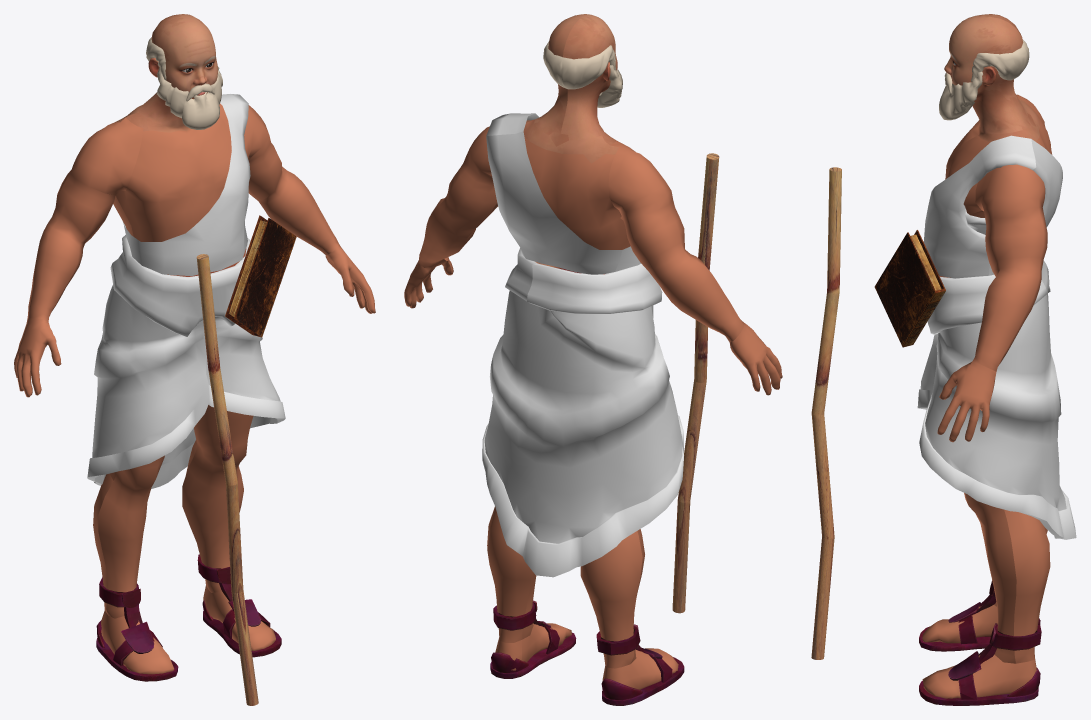
Rendered from Socrates.fbx.
3 views of the same model, side by side, from view 1: azimuth 30°, elevation 25°; view 2: azimuth 150°, elevation 25°; view 3: azimuth 270°, elevation 25° (orthographic). The views are drawn at different scales.
Visible parts, largest first — view 1: Wolf3D_Head.001, Cylinder, Object_4; view 2: Wolf3D_Head.001, Cylinder; view 3: Wolf3D_Head.001, Cylinder, Object_4.
Part boxes in pixels (box(x1,y1,x2,y2)): Wolf3D_Head.001: box(14, 14, 375, 681); Cylinder: box(196, 254, 258, 705); Object_4: box(225, 215, 296, 337); Wolf3D_Head.001: box(404, 14, 782, 705); Cylinder: box(672, 153, 719, 613); Wolf3D_Head.001: box(917, 14, 1076, 705); Cylinder: box(811, 167, 841, 659); Object_4: box(874, 230, 945, 347).
Bounding box in the file's own units: 106 × 182 × 67.16.
10 materials, 10 textured.
